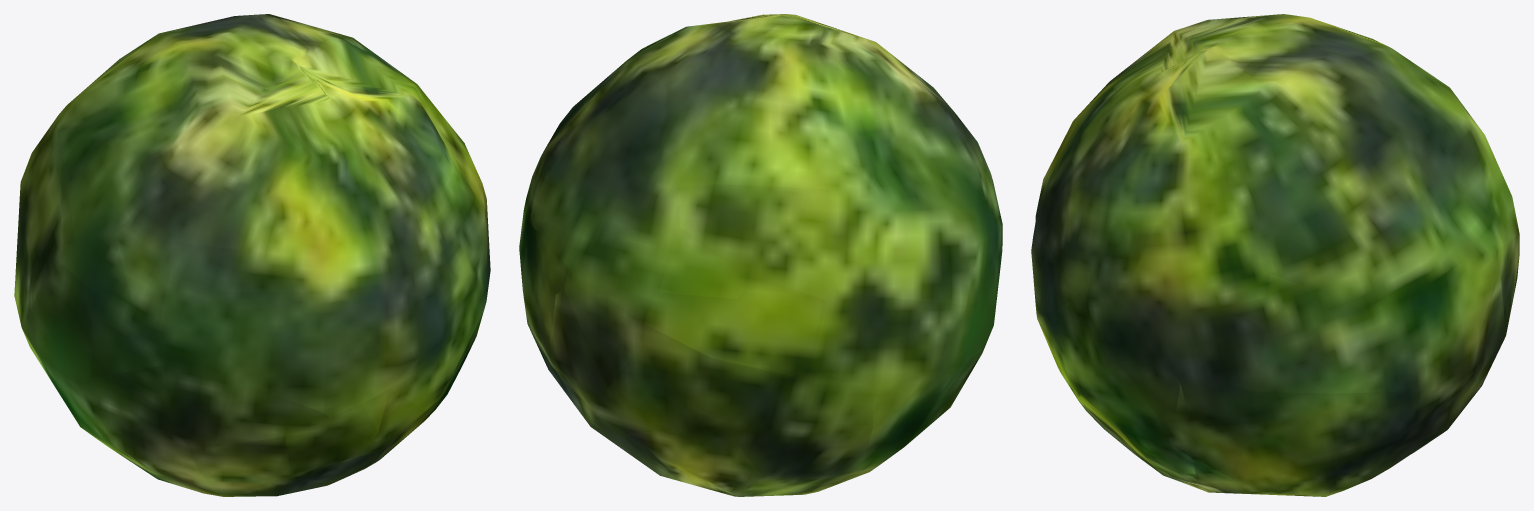
Rendered from planet_7-far.glb.
3 renders of one model, left to right at view 1: azimuth 30°, elevation 25°; view 2: azimuth 150°, elevation 25°; view 3: azimuth 270°, elevation 25°, orthographic.
Visible parts, largest first — view 1: Mesh_0.001; view 2: Mesh_0.001; view 3: Mesh_0.001.
Boxes of the visible parts, bbox=[...] form: Mesh_0.001: bbox=[14, 14, 490, 496]; Mesh_0.001: bbox=[519, 14, 1002, 496]; Mesh_0.001: bbox=[1031, 14, 1519, 496].
Bounding box in the file's own units: 1.89 × 1.9 × 1.89.
1 material, 1 textured.
